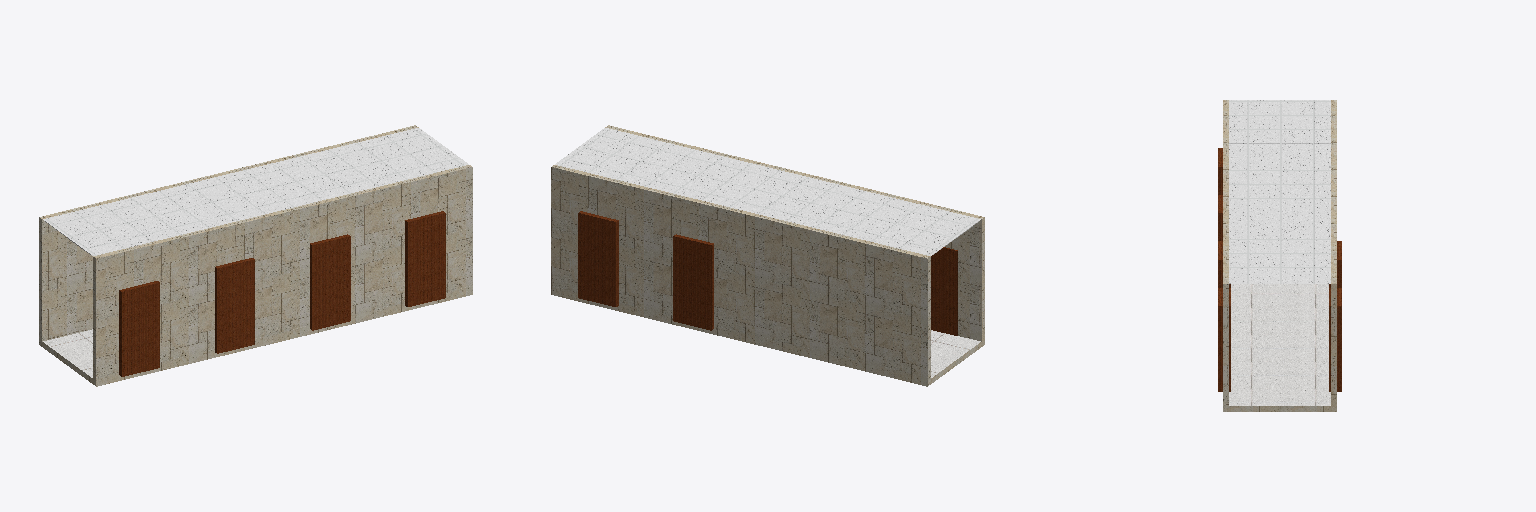
3 renders of one model, left to right at view 1: azimuth 30°, elevation 25°; view 2: azimuth 150°, elevation 25°; view 3: azimuth 270°, elevation 25°, orthographic.
Visible parts, largest first — view 1: hallway.029, roof_hallway.029, door_elevator.117; view 2: hallway.029, roof_hallway.029, door_elevator.118, door_elevator.117; view 3: roof_hallway.029, hallway.029, door_elevator.117, door_elevator.118.
Boxes of the visible parts, <box> form: hallway.029: <box>39,125,472,386</box>; roof_hallway.029: <box>43,128,468,255</box>; door_elevator.117: <box>119,211,445,376</box>; hallway.029: <box>551,125,984,386</box>; roof_hallway.029: <box>555,128,980,255</box>; door_elevator.118: <box>578,211,713,330</box>; door_elevator.117: <box>931,247,957,335</box>; roof_hallway.029: <box>1229,100,1330,283</box>; hallway.029: <box>1223,100,1336,411</box>; door_elevator.117: <box>1218,148,1230,391</box>; door_elevator.118: <box>1329,241,1341,391</box>.
Bounding box in the file's own units: 3.43 × 1.11 × 0.9786.
5 materials, 4 textured.